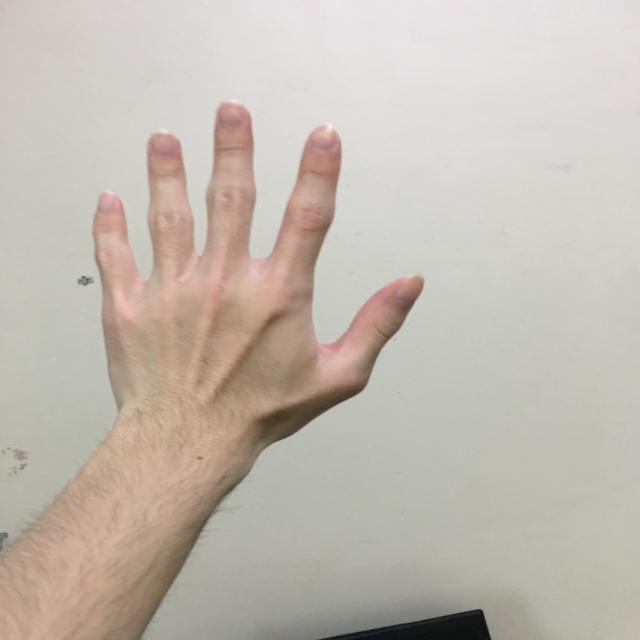no-gloves: (91, 99, 428, 428)
